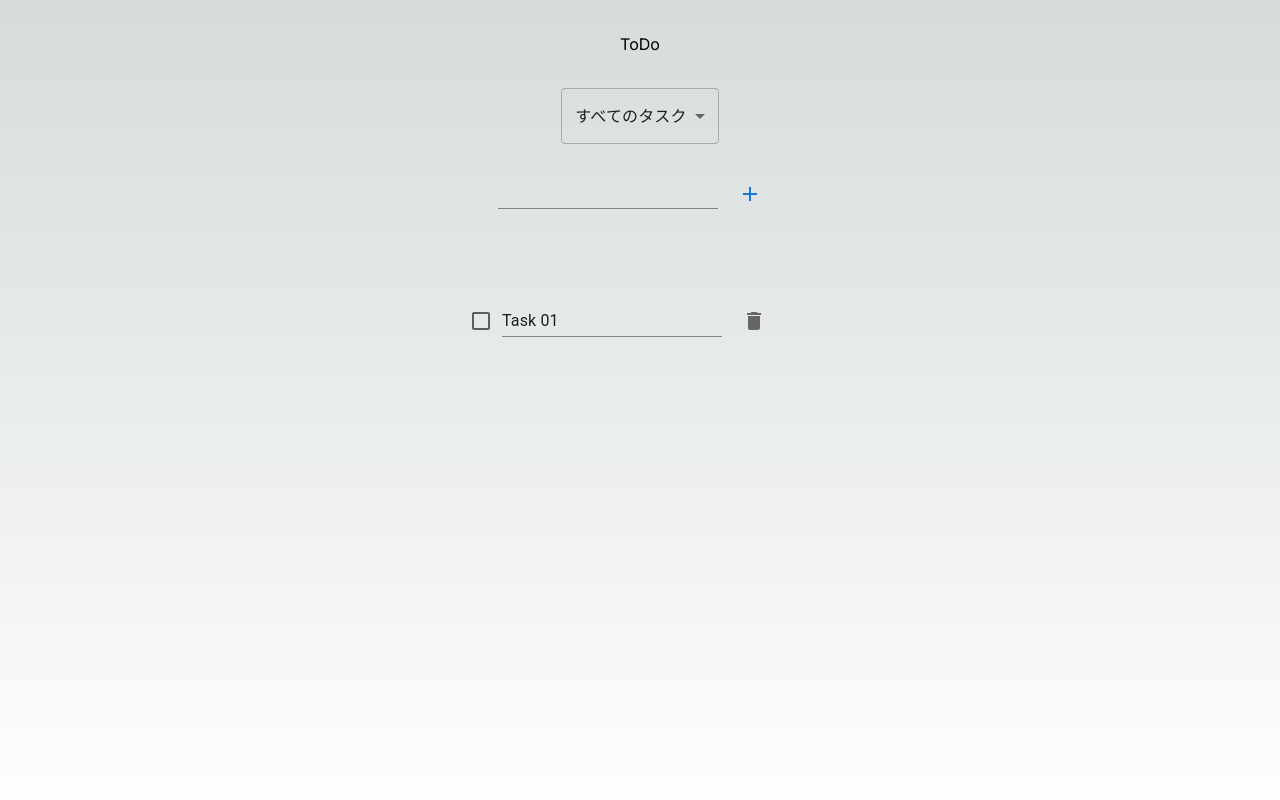
Test: ToDo › ステータス変更されたタスクを表示する › 完了したタスクを表示できること
Type "Task 01" into the 1st field at (608, 193), box [498,177,718,209]
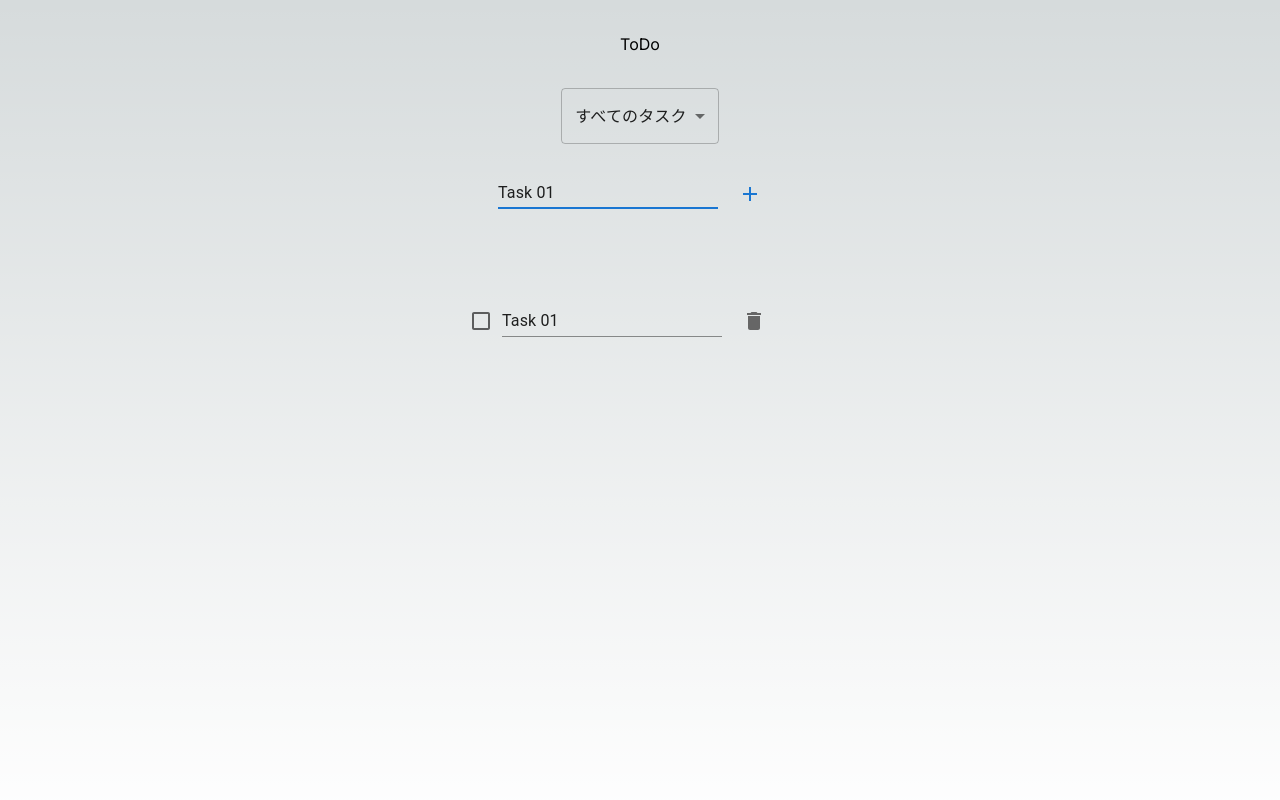
Click the 1st button at (750, 194), box [718,176,782,212]
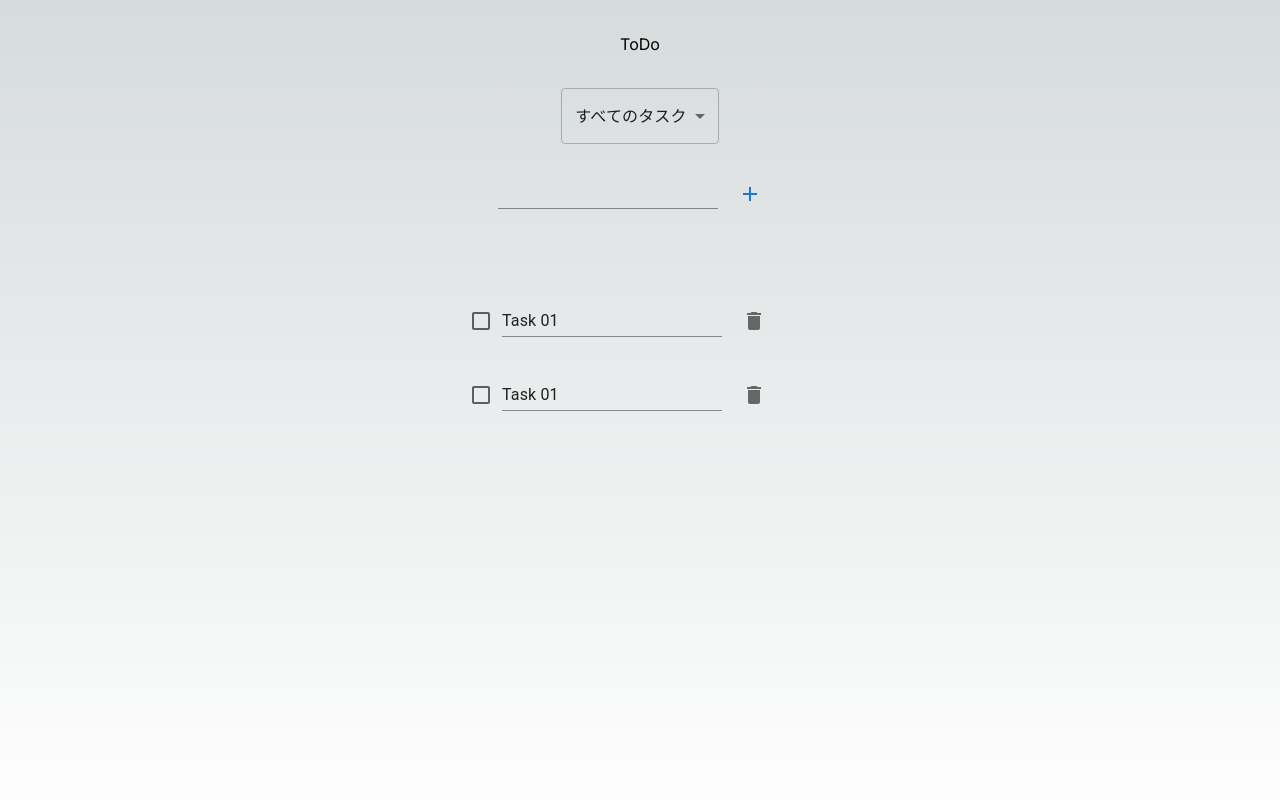
Click the 1st checkbox at (481, 321), box [469,309,493,333]
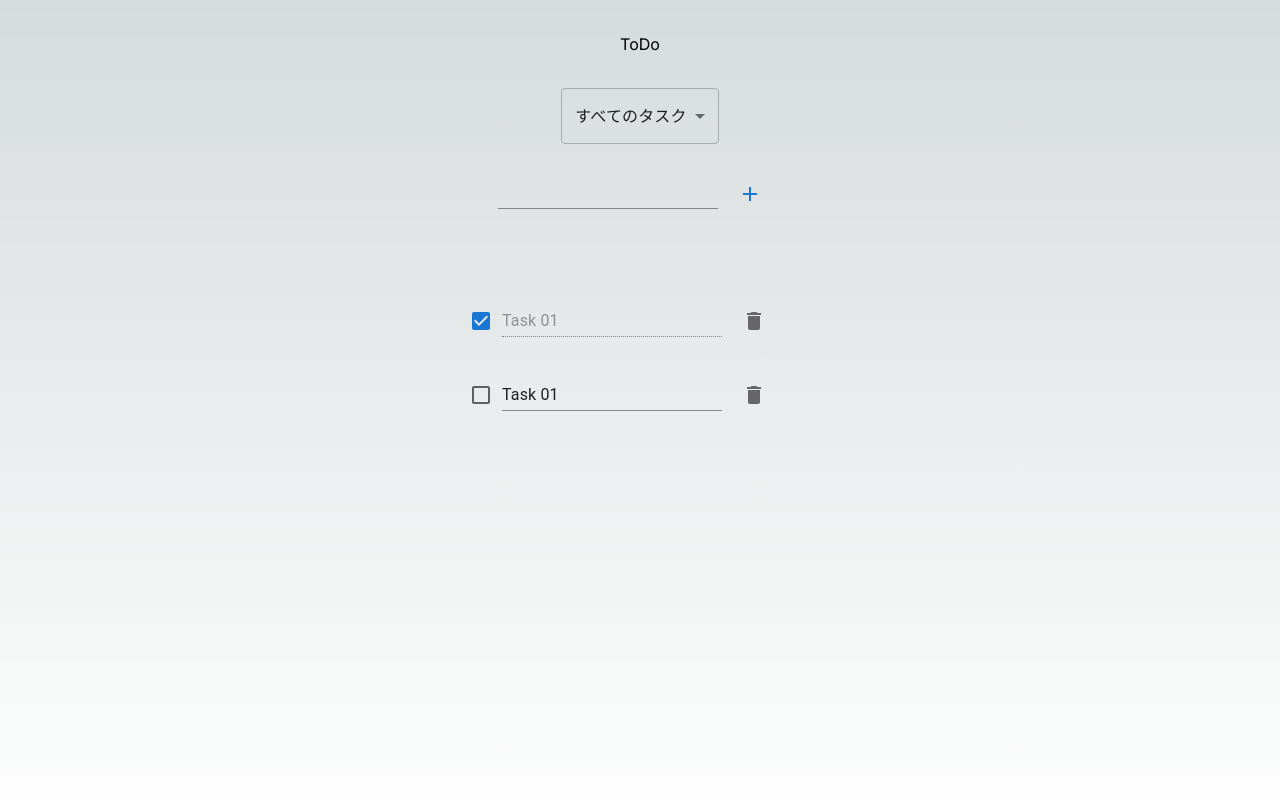
完了したタスクの一覧を表示
Click the dropdown at (631, 116), box [575,106,687,126]
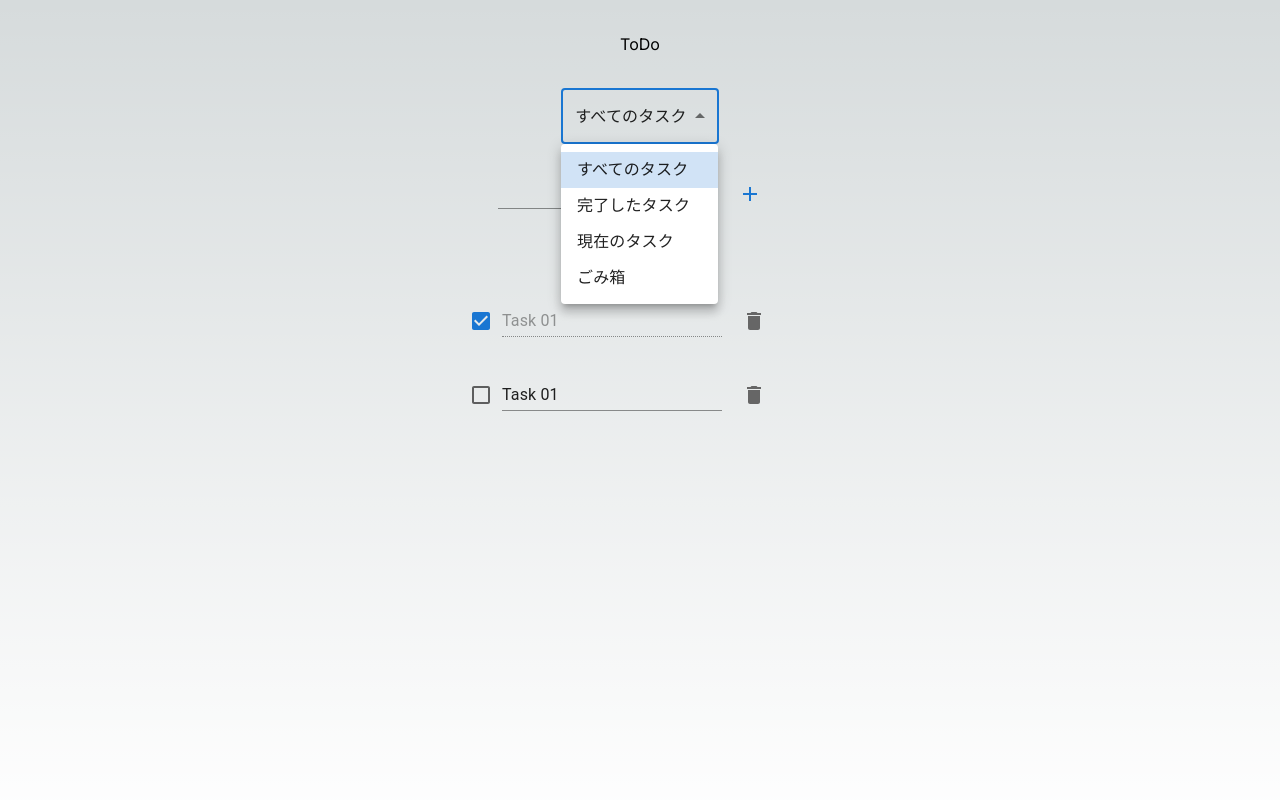
Click the option "完了したタスク" at (634, 206), box [577,196,690,215]
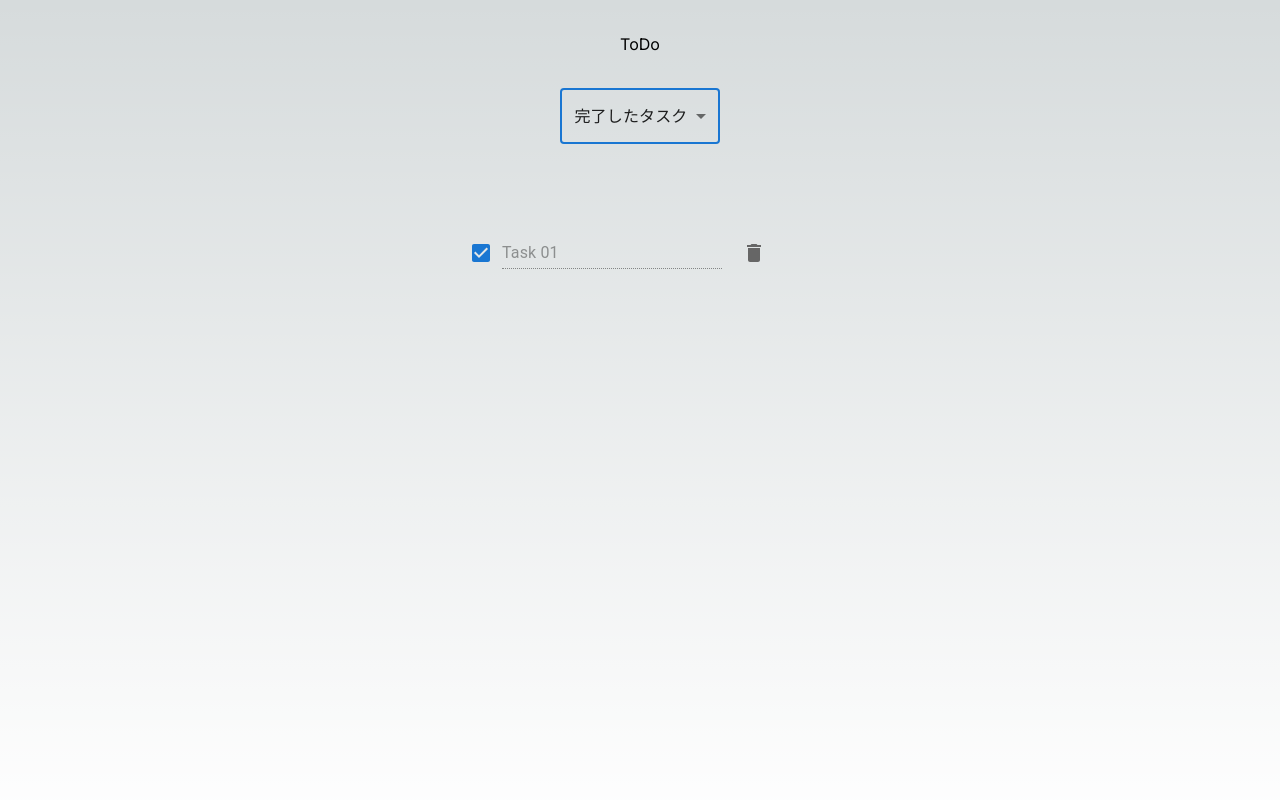
expect the number of list items is 1: met, box [469,235,786,271]
